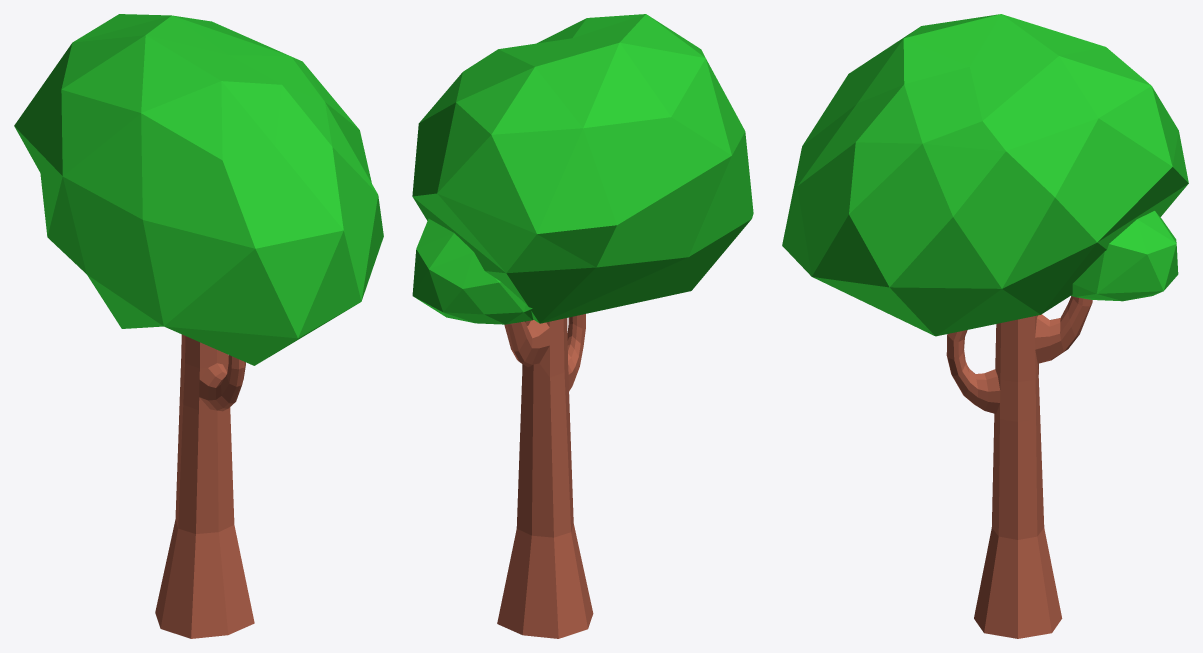
Rendered from TreeC.fbx.
3 views of the same model, side by side, from view 1: azimuth 30°, elevation 25°; view 2: azimuth 150°, elevation 25°; view 3: azimuth 270°, elevation 25° (orthographic). The views are drawn at different scales.
Parts seen in each view (by area): view 1: Icosphere.007, Cube.016; view 2: Icosphere.007, Cube.016, Icosphere.008; view 3: Icosphere.007, Cube.016, Icosphere.008.
Boxes of the visible parts, <box> form: Icosphere.007: <box>14,14,383,365</box>; Cube.016: <box>155,334,254,638</box>; Icosphere.007: <box>412,14,753,323</box>; Cube.016: <box>497,314,593,638</box>; Icosphere.008: <box>412,218,533,324</box>; Icosphere.007: <box>782,14,1188,336</box>; Cube.016: <box>946,296,1092,638</box>; Icosphere.008: <box>1071,211,1178,301</box>.
Bounding box in the file's own units: 595 × 1195 × 769.
